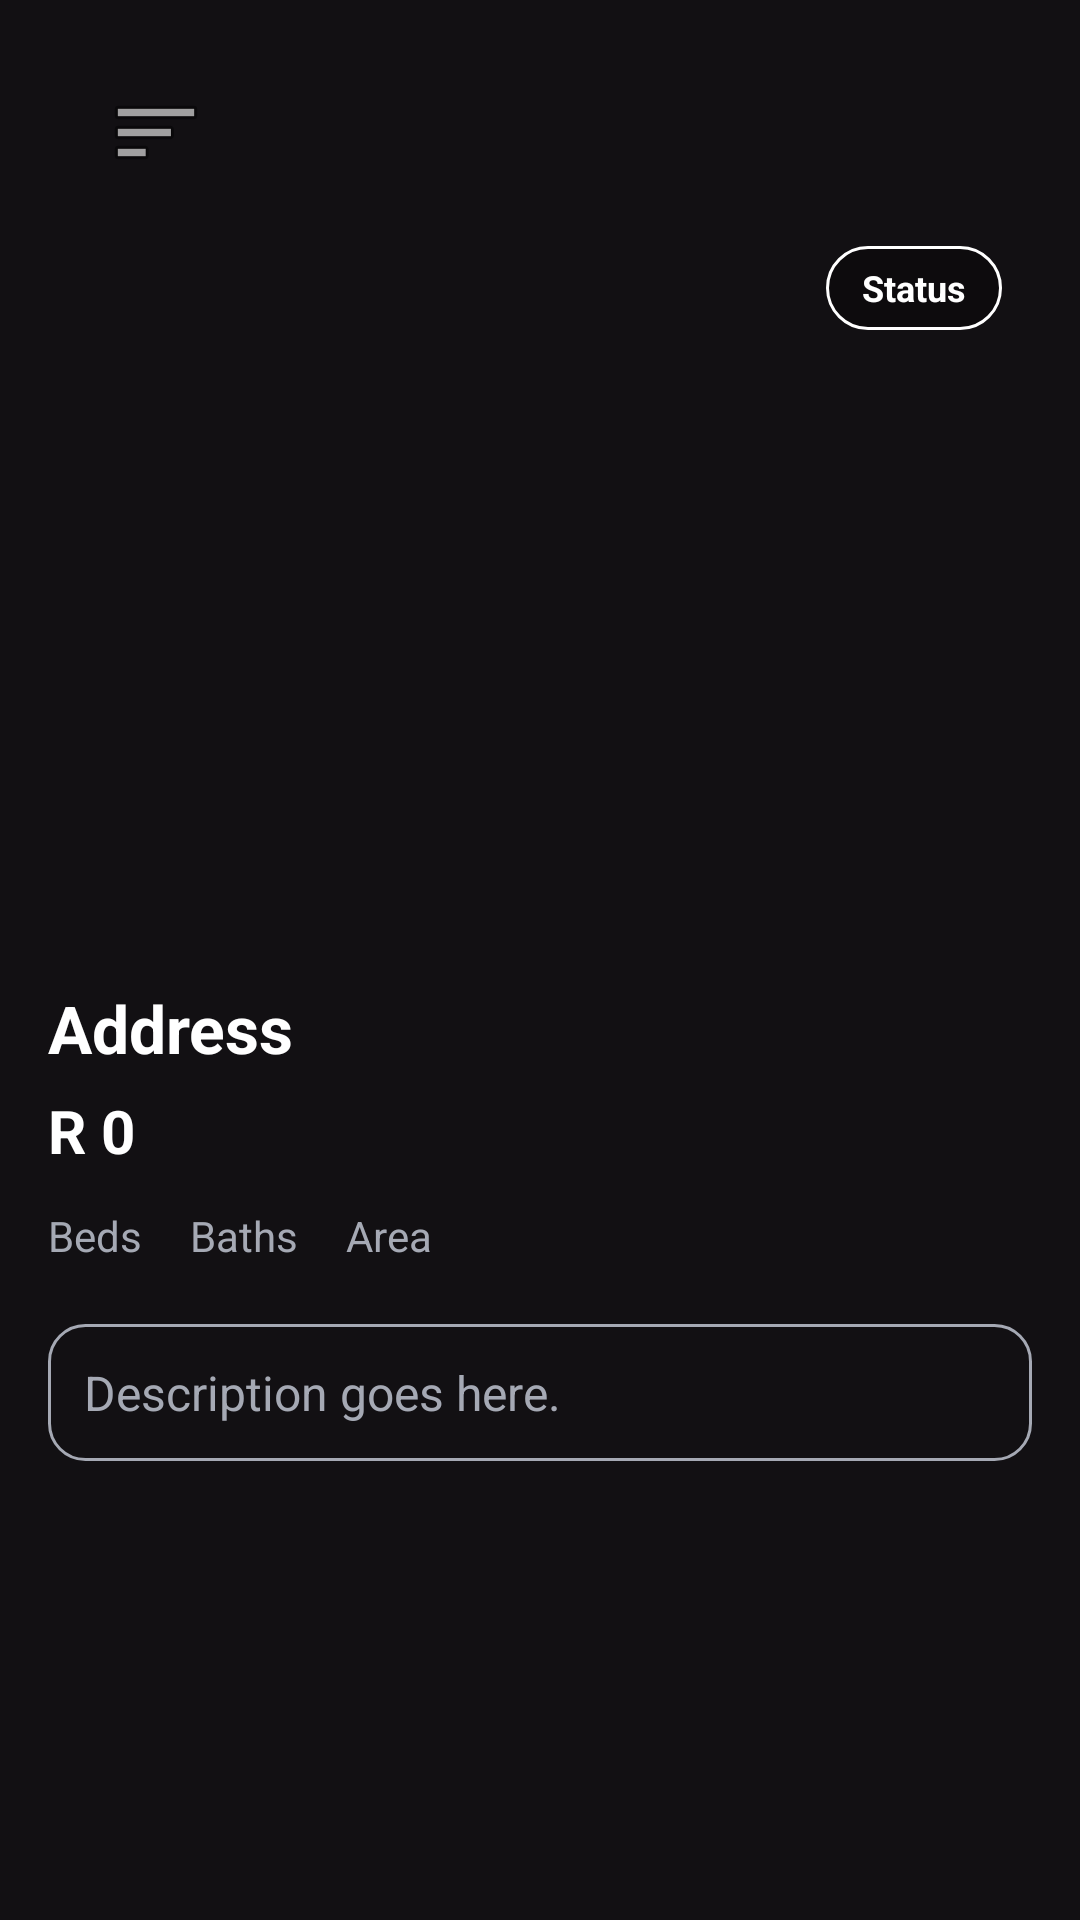

Point at icon controls on the screen. Image size 1080 x 1920, points as (x=x, y=y).
Open menu: (x=156, y=132)
